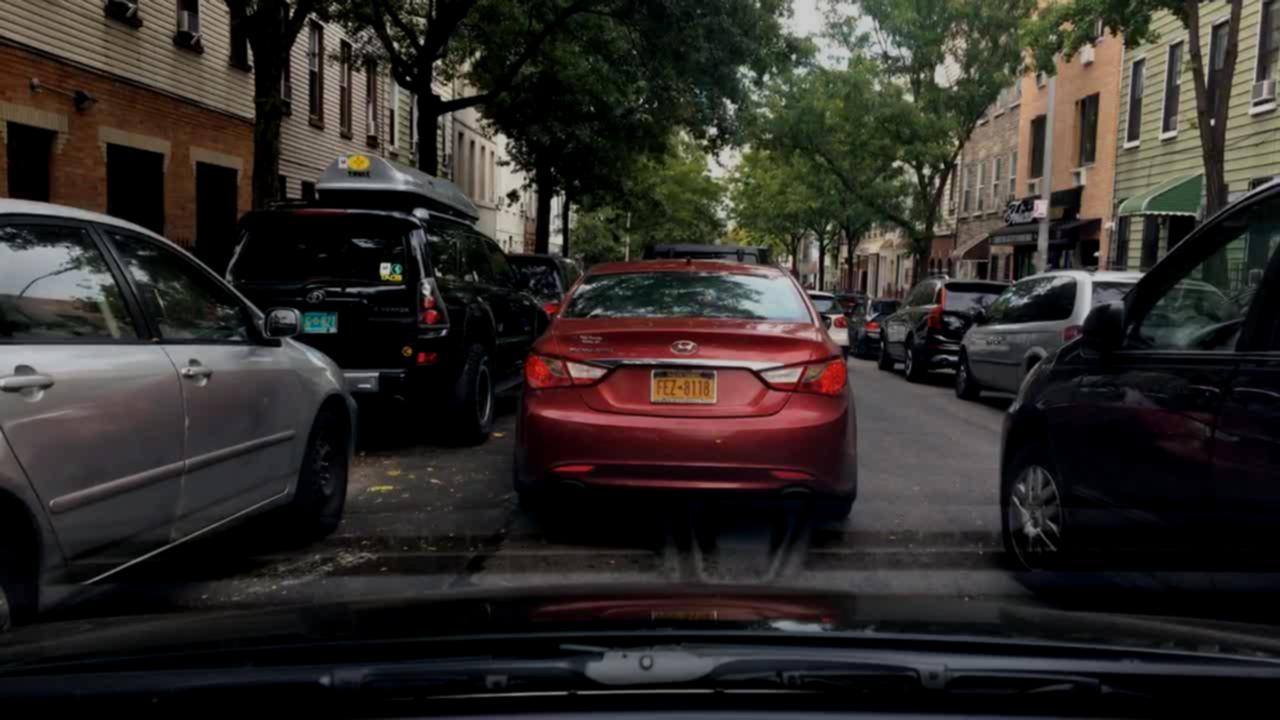Hyundai: (667, 335, 705, 360)
Toyota: (301, 287, 329, 306)
